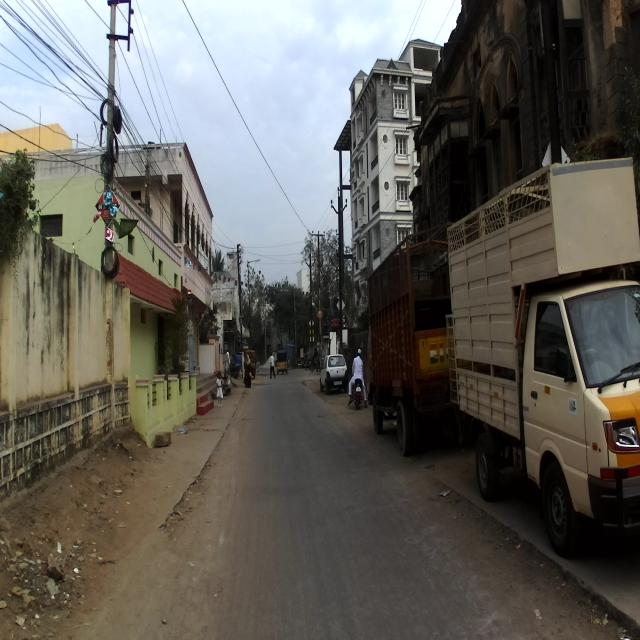electric pole ahead at: (94, 0, 133, 452)
truck ahead at: (451, 171, 640, 557), (366, 245, 450, 442)
